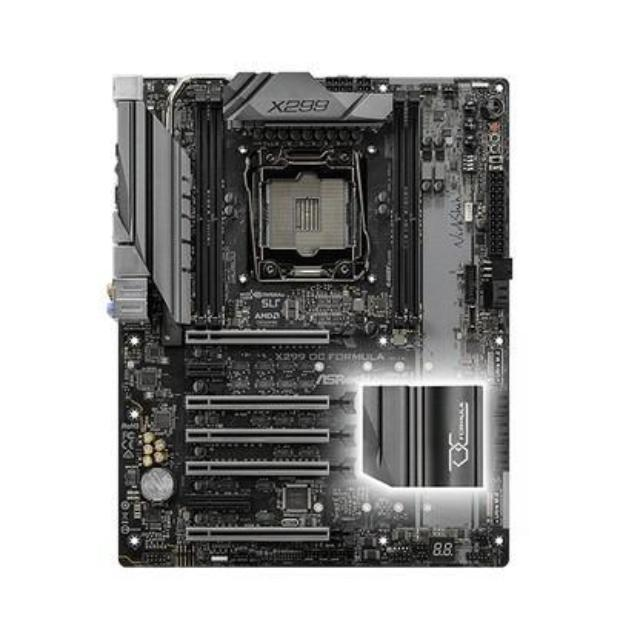Mainboard: (105, 59, 520, 582)
